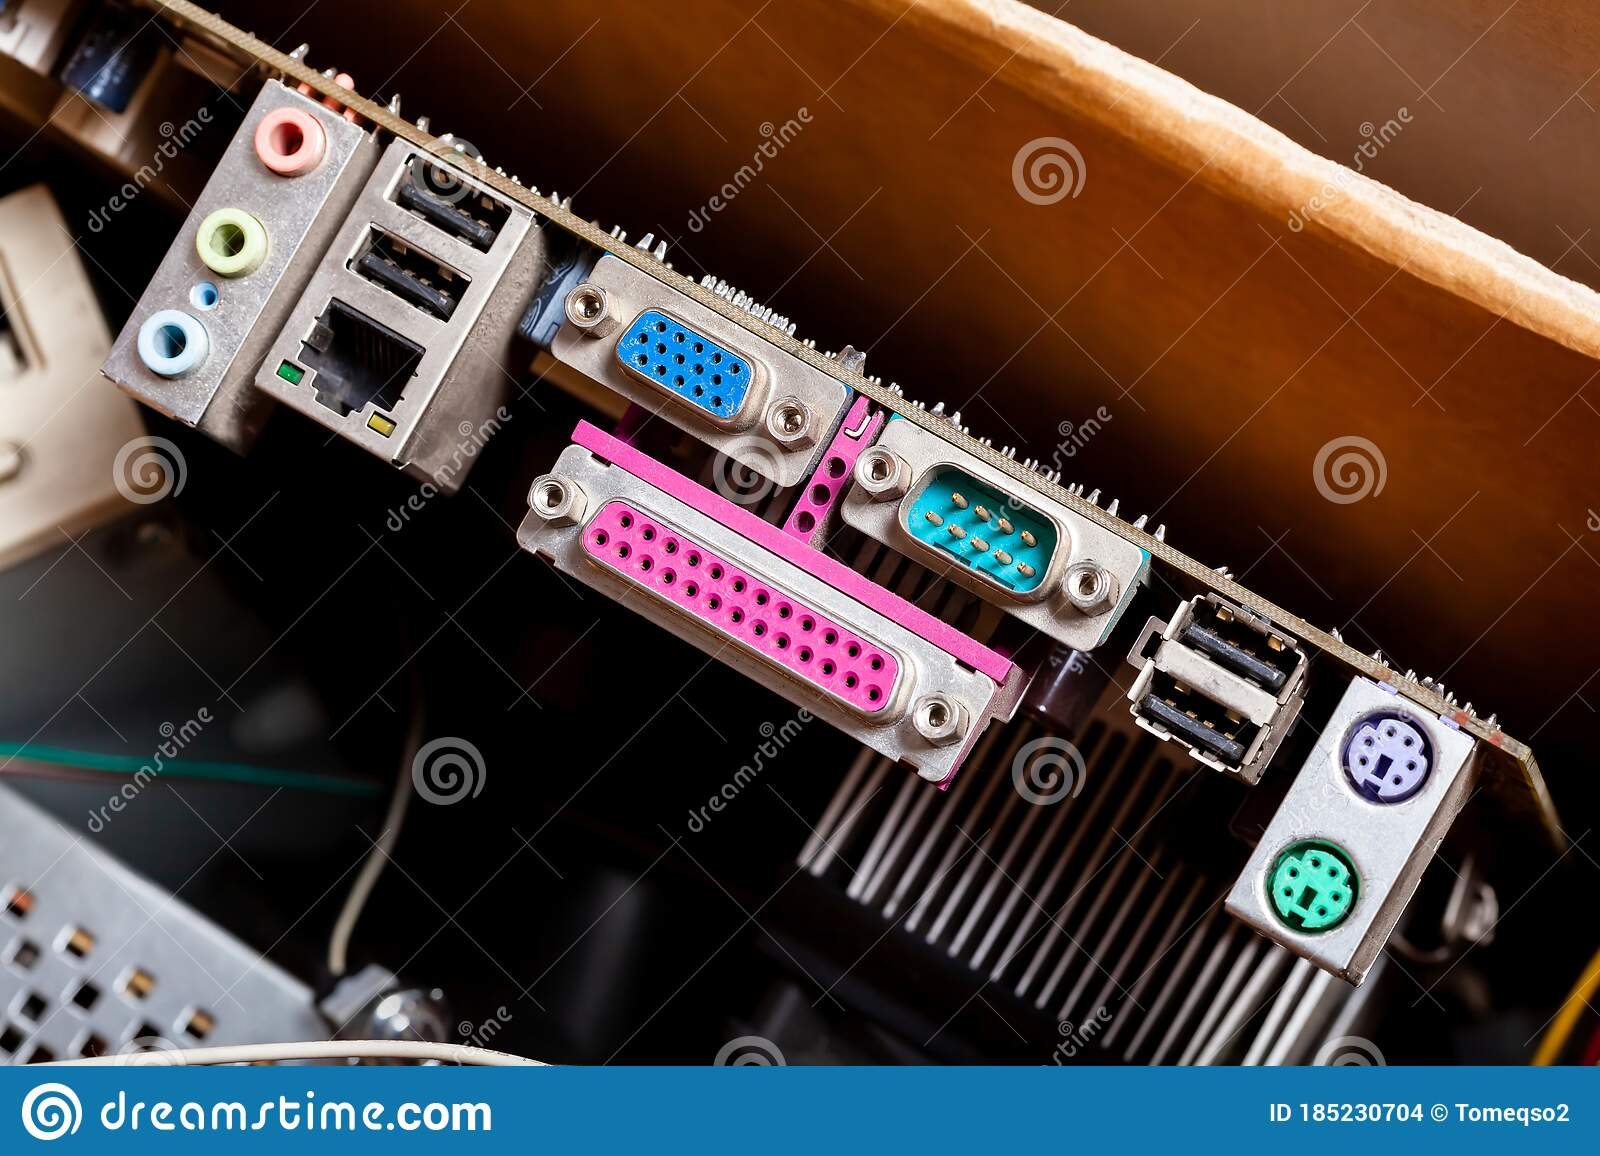Ethernet: (272, 296, 439, 447)
VGA: (617, 291, 766, 437)
